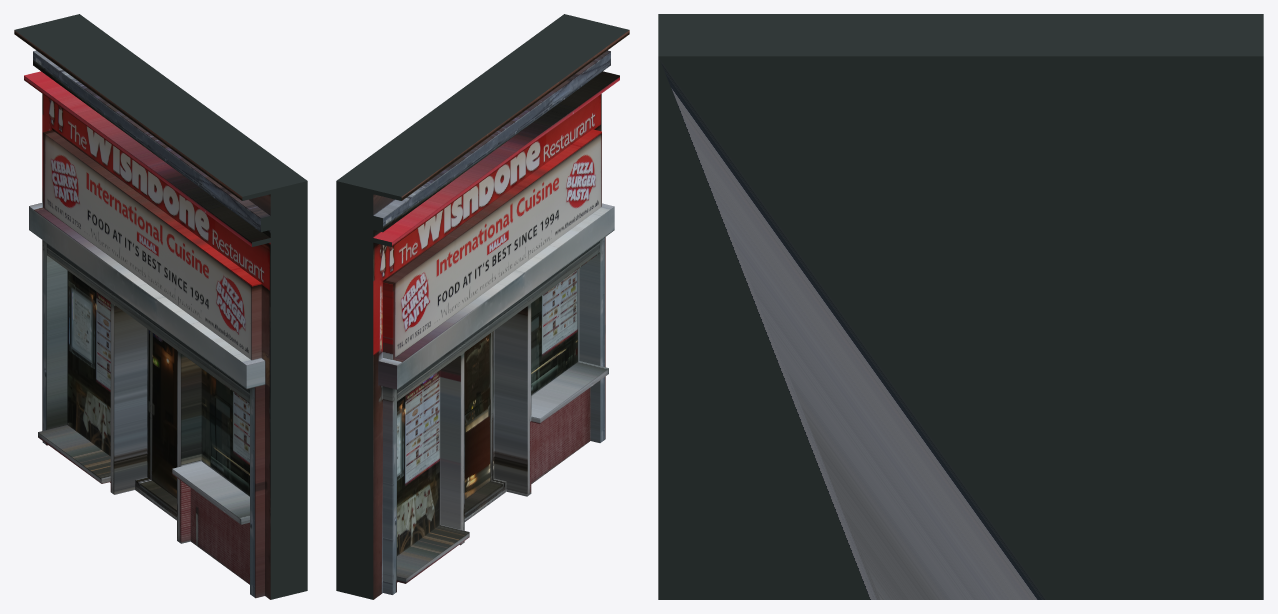
File: bas_facade2.fbx
The picture shows the model from 3 angles, left to right: view 1: azimuth 30°, elevation 25°; view 2: azimuth 150°, elevation 25°; view 3: azimuth 270°, elevation 25°; orthographic projection. The views are drawn at different scales.
Parts seen in each view (by area): view 1: bas_facade2.002; view 2: bas_facade2.002; view 3: bas_facade2.002.
Boxes of the visible parts, box(x1,y1,x2,y2) form: bas_facade2.002: box(14, 14, 307, 599); bas_facade2.002: box(336, 14, 629, 599); bas_facade2.002: box(658, 14, 1263, 599).
Size of the model in its own units: 3.11 by 18.61 by 18.77.
Materials: 2 (2 with a texture image).
